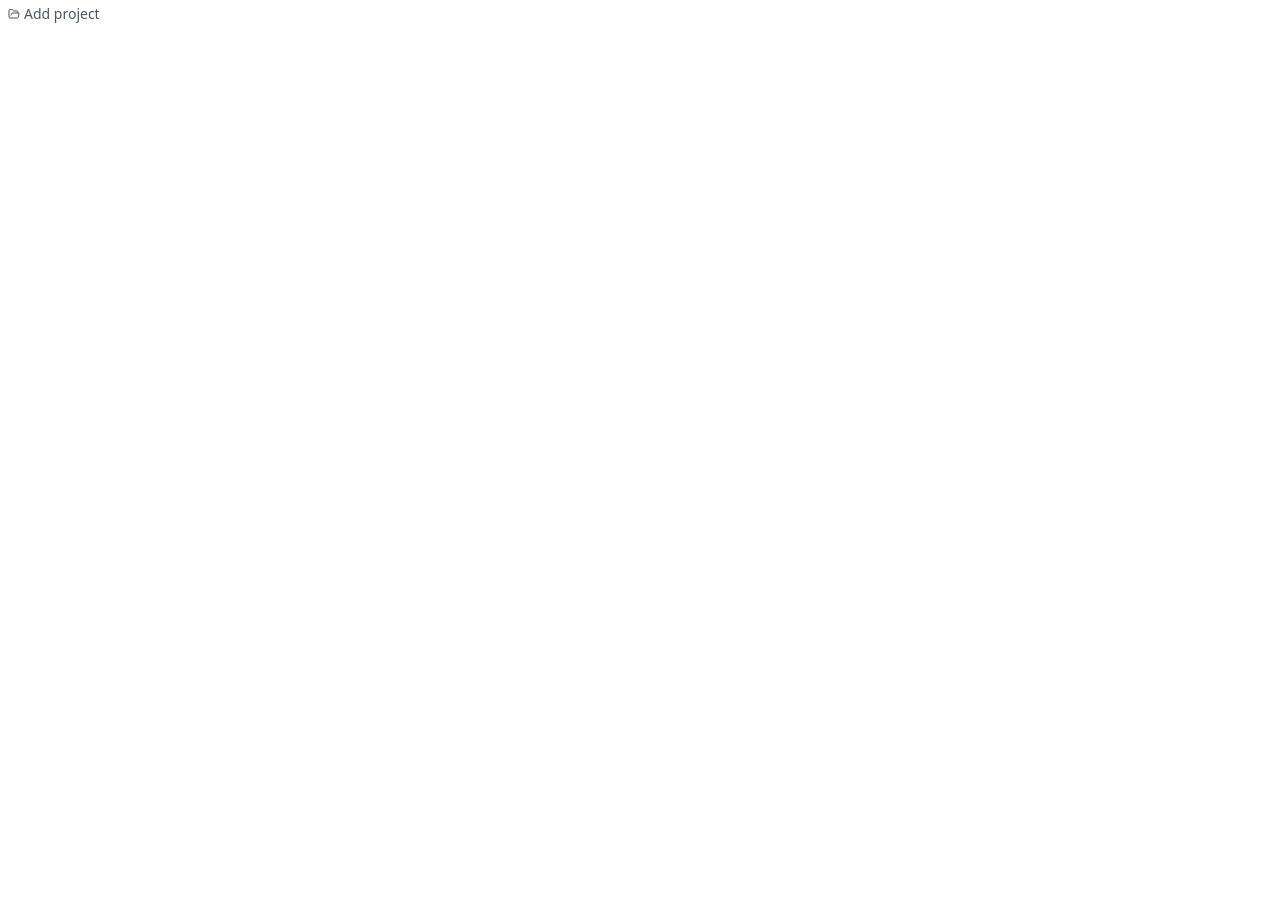
Test: ProjectPicker › closes popover after selecting a project
The image size is (1280, 900).
Click the text "Add project" at (54, 14), box [8, 4, 100, 23]
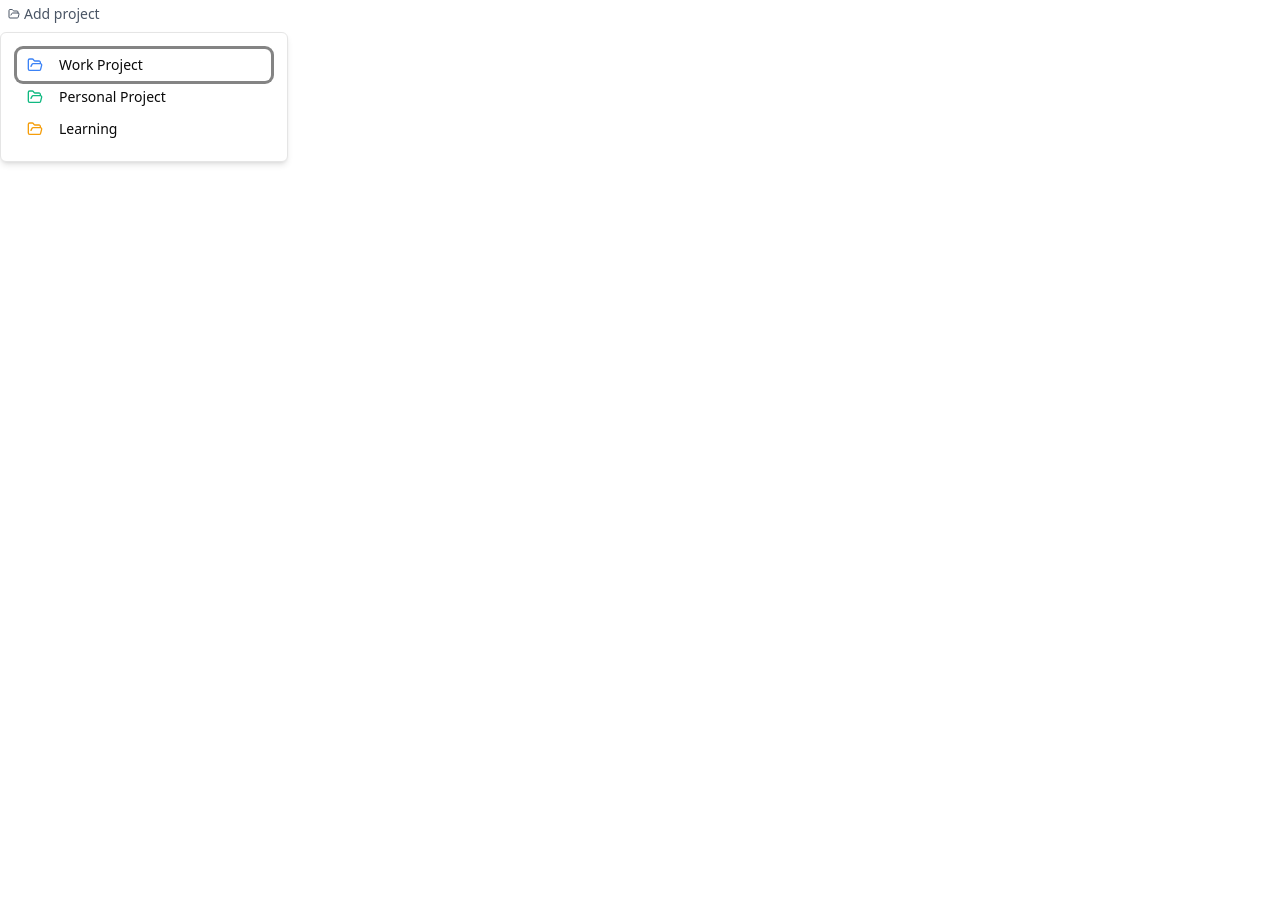
expect the button "Work Project" is shown: met
Click the button "Work Project" at (144, 65), box [17, 49, 271, 81]
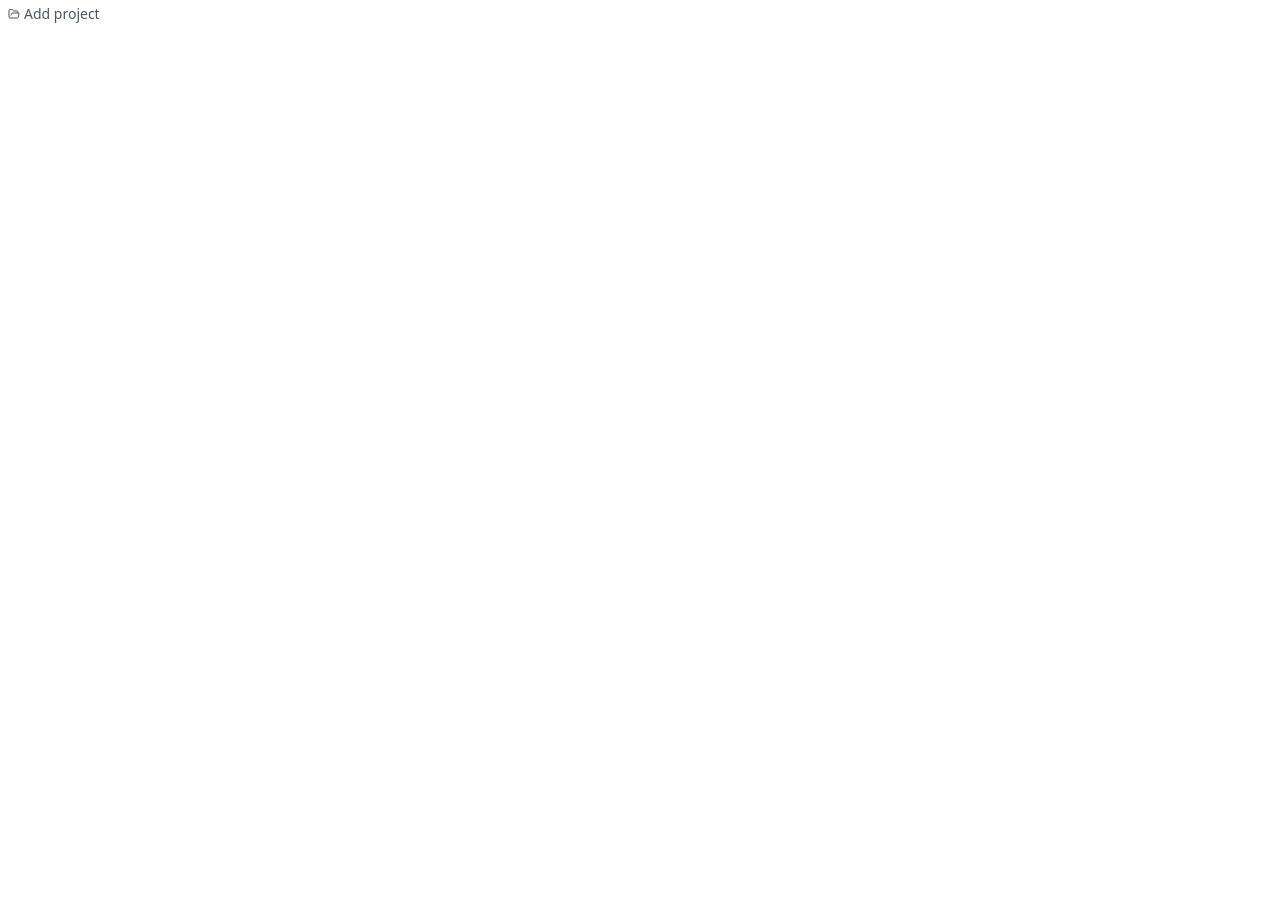
expect the button "Personal Project" is gone: met
